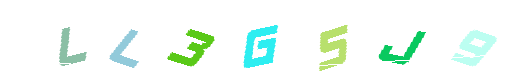3: (214, 0, 294, 80)
5: (288, 0, 368, 80)
9: (393, 0, 473, 80)
G: (220, 0, 300, 80)
J: (361, 0, 441, 80)
L: (68, 0, 148, 80), (153, 0, 233, 80)
